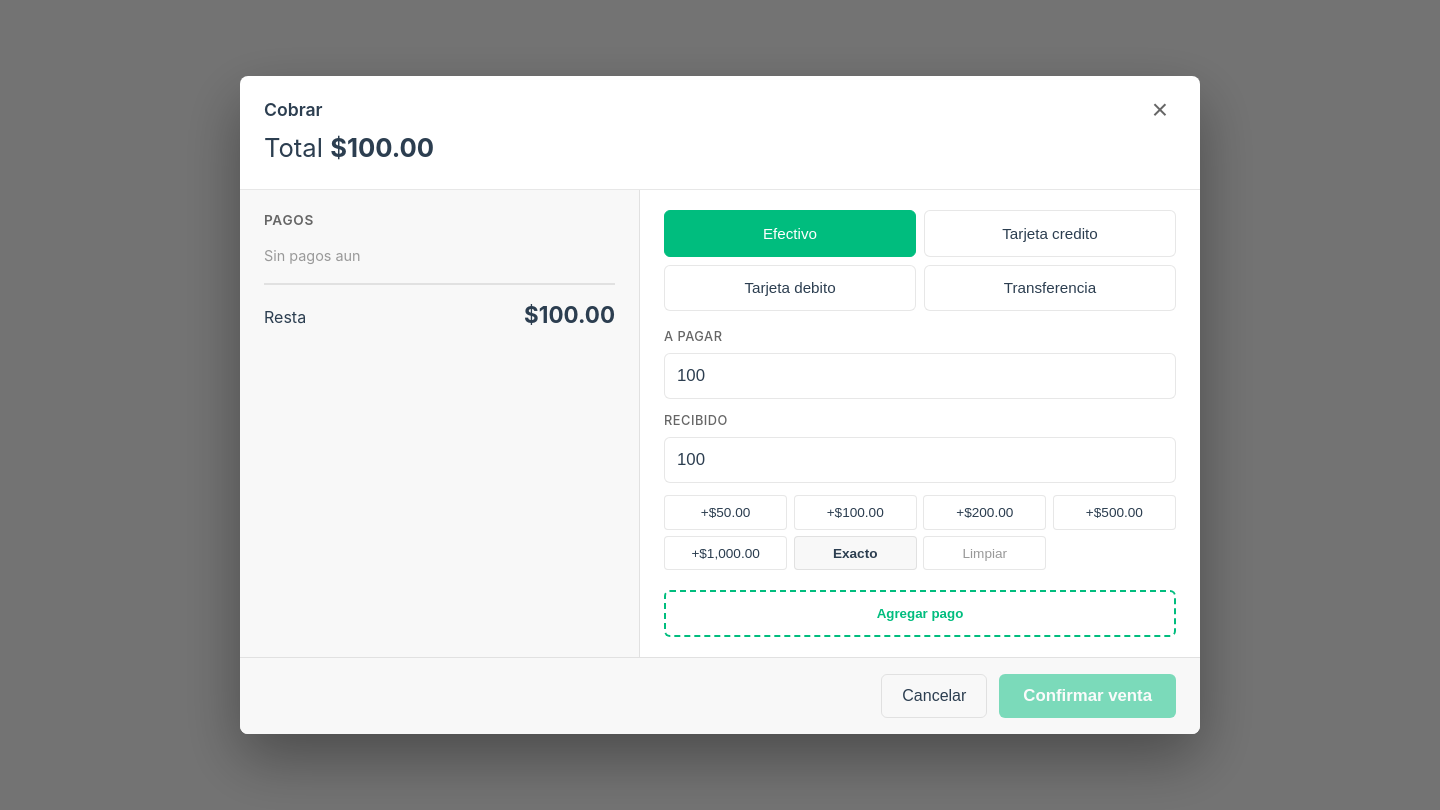
Test case: PaymentModal › addPayment rechaza si el monto excede el total
Step 1. Replace the text in the field labelled "A pagar" with "150" → (920, 376), box top-left (664, 353), bottom-right (1176, 399)
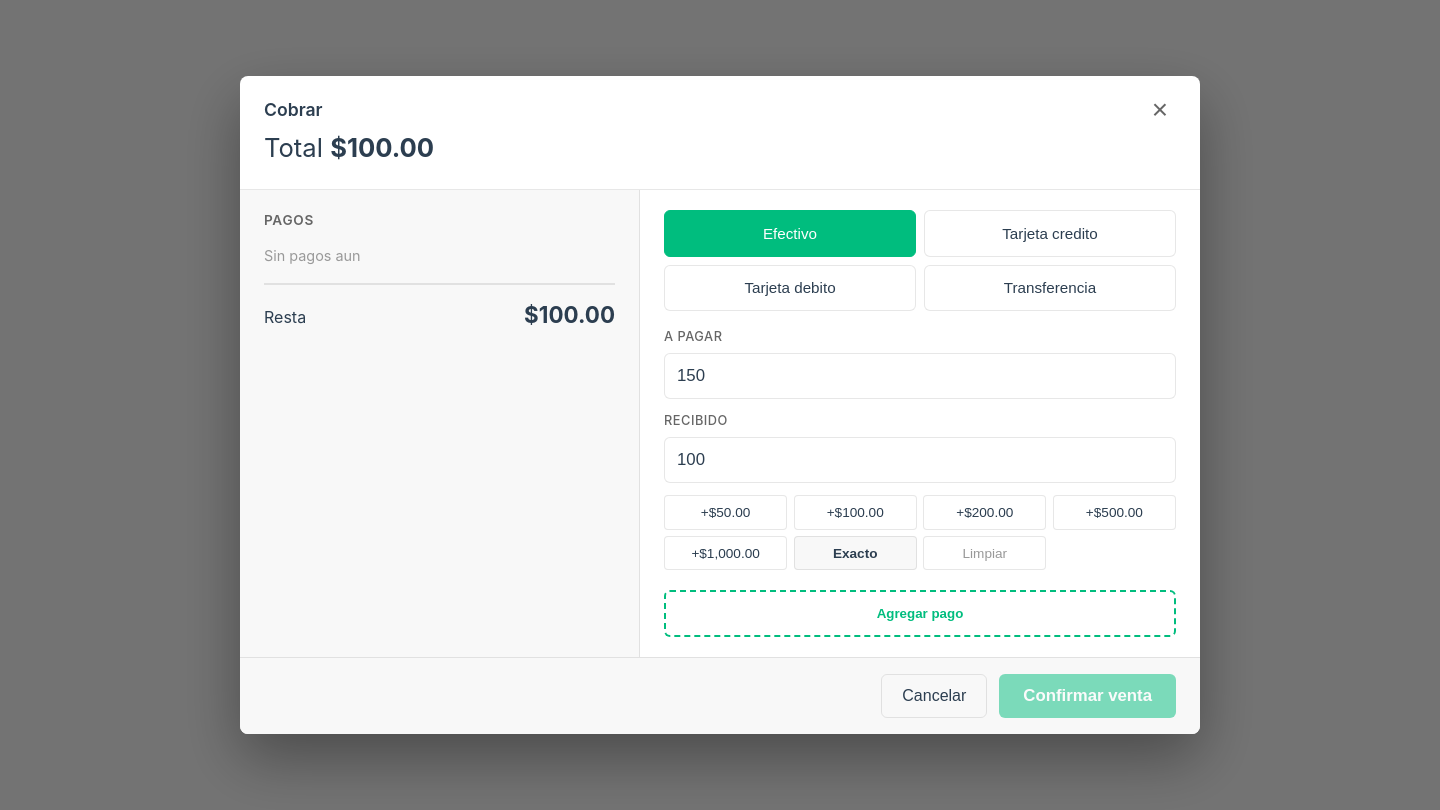
Step 2. Click the button "Agregar pago" → click(920, 614), box top-left (664, 590), bottom-right (1176, 637)
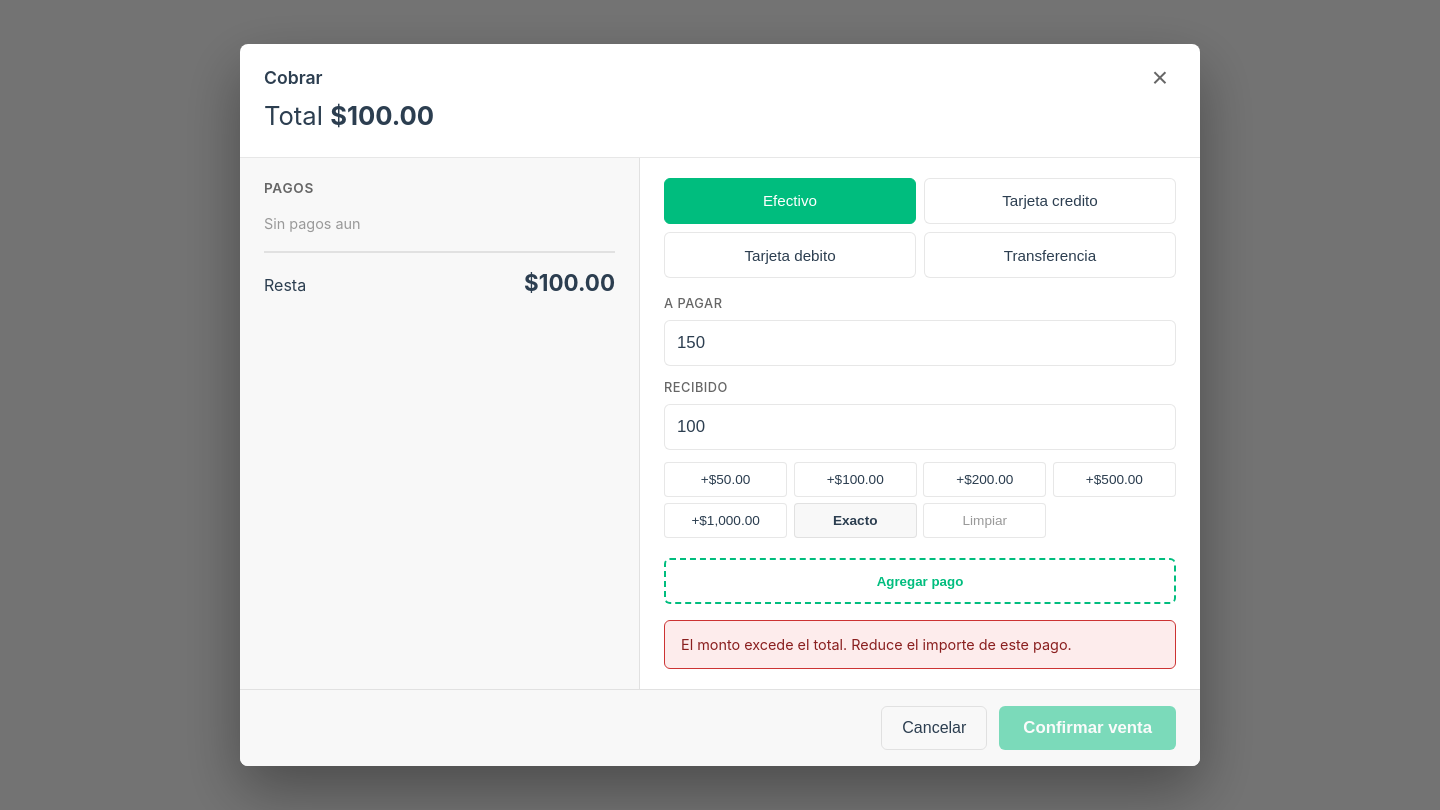
expect the message "El monto excede el total. Reduce el importe de este pago." is shown: met, box top-left (664, 620), bottom-right (1176, 669)
